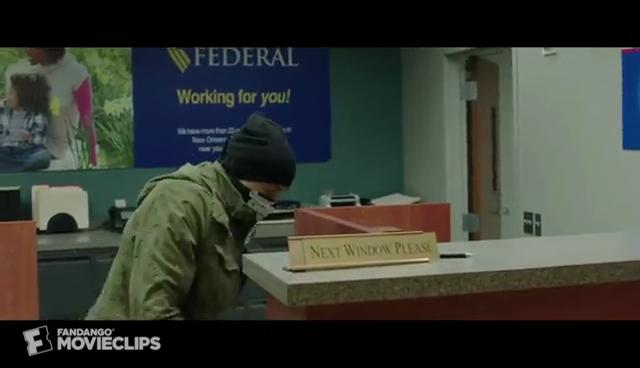criminal: (84, 112, 296, 319)
